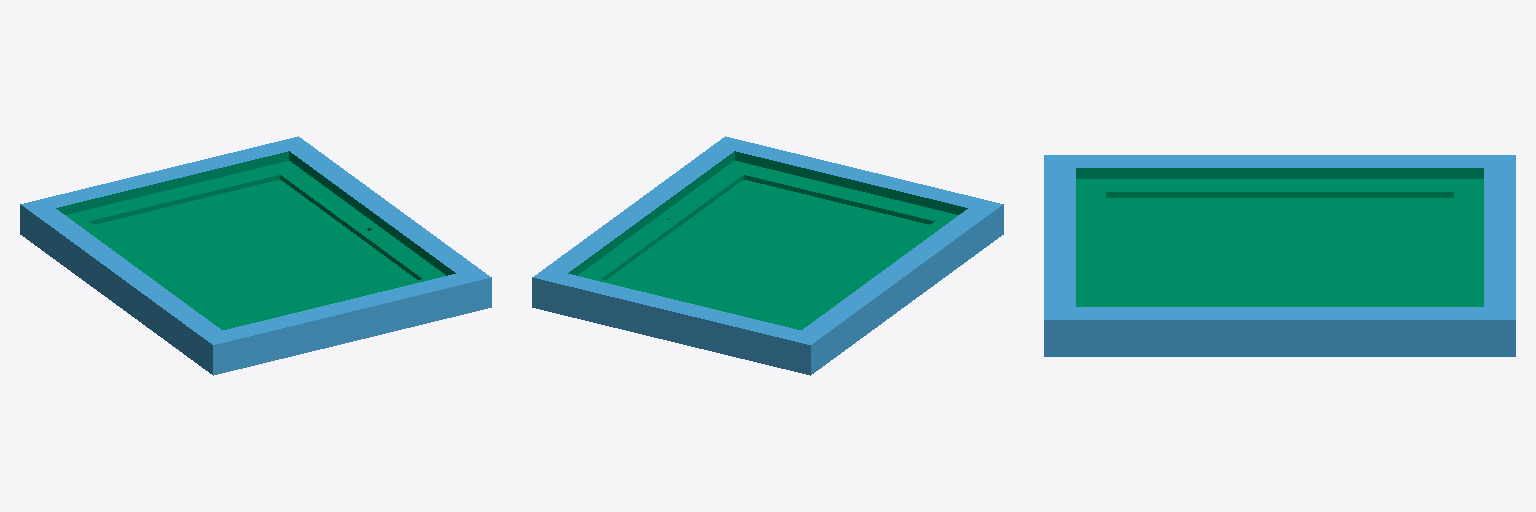
robot.urdf — window:
<?xml version="1.0" ?>
<robot name="window">
	<mujoco>
        <compiler meshdir="texture_stl" balanceinertia="true" discardvisual="false"/>
    </mujoco>
	<link name="base"/>
	<link name="link_0">
		<visual name="out-frame">
			<origin xyz="0 0 0"/>
			<geometry>
				<mesh filename="texture_stl/frame.stl" scale="0.5 0.5 0.5"/>
			</geometry>
		</visual>
		<collision>
			<origin xyz="0 0 0"/>
			<geometry>
				<mesh filename="texture_stl/frame.stl" scale="0.5 0.5 0.5"/>
			</geometry>
		</collision>
	</link>
	<joint name="joint_0" type="fixed">
		<origin rpy="1.570796326794897 0 -1.570796326794897" xyz="0 0 0"/>
		<child link="link_0"/>
		<parent link="base"/>
	</joint>
	<link name="link_1">
		<visual name="surf-board">
			<origin xyz="0.32344063140201634 -0.26581486684187894 0"/>
			<geometry>
				<mesh filename="texture_stl/board.stl" scale="0.5 0.5 0.5"/>
			</geometry>
		</visual>
		<collision>
			<origin xyz="0.32344063140201634 -0.26581486684187894 0"/>
			<geometry>
				<mesh filename="texture_stl/board.stl" scale="0.5 0.5 0.5"/>
			</geometry>
		</collision>
	</link>
	<joint name="joint_1" type="revolute">
		<origin xyz="-0.32344063140201634 0.26581486684187894 0"/>
		<axis xyz="0 -1 0"/>
		<child link="link_1"/>
		<parent link="link_0"/>
		<limit lower="0" upper="1.5079644737231006"/>
	</joint>
	<link name="link_2">
		<visual name="handle">
			<origin xyz="0 0 0"/>
			<geometry>
				<mesh filename="texture_stl/9969510.stl" scale="0.9548059506629005 0.9548059506629005 0.9548059506629005"/>
			</geometry>
		</visual>
		<collision>
			<origin xyz="0 0 0"/>
			<geometry>
				<mesh filename="texture_stl/9969510.stl" scale="0.9548059506629005 0.9548059506629005 0.9548059506629005"/>
			</geometry>
		</collision>
	</link>
	<joint name="joint_2" type="revolute">
		<origin xyz="0.6199794040608984 -0.26581486684187894 0.03220453267244513"/>
		<child link="link_2"/>
		<parent link="link_1"/>
		<axis xyz="0 0 1"/>
		<limit lower="0" upper="1.5079644737231006"/>
	</joint>
</robot>

--- Facts derived from the render (not from the file) ---
Views: 3 orthographic renders of the robot side by side, from view 1: azimuth 30°, elevation 25°; view 2: azimuth 150°, elevation 25°; view 3: azimuth 270°, elevation 25°.
Robot: window — 4 links, 3 joints (2 revolute, 1 fixed); root link base; default pose: every joint at zero.
Visible links, largest first — view 1: link_1, link_0; view 2: link_1, link_0; view 3: link_1, link_0.
Link boxes in pixels (x1,y1,x2,y2): link_1: (56, 151, 455, 329); link_0: (20, 136, 491, 375); link_1: (568, 151, 967, 329); link_0: (532, 136, 1003, 375); link_1: (1076, 168, 1483, 306); link_0: (1044, 155, 1515, 356).
Size in the robot's own frame: 0.625 by 0.75 by 0.0666 metres.
3 mesh visuals loaded from 3 distinct referenced files (3 binary STL).